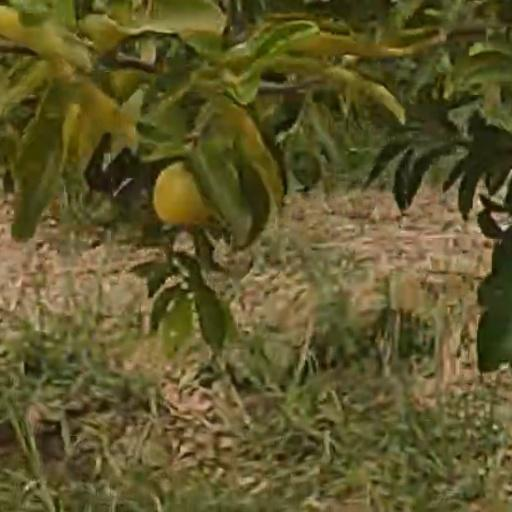acerola: (154, 162, 209, 224)
